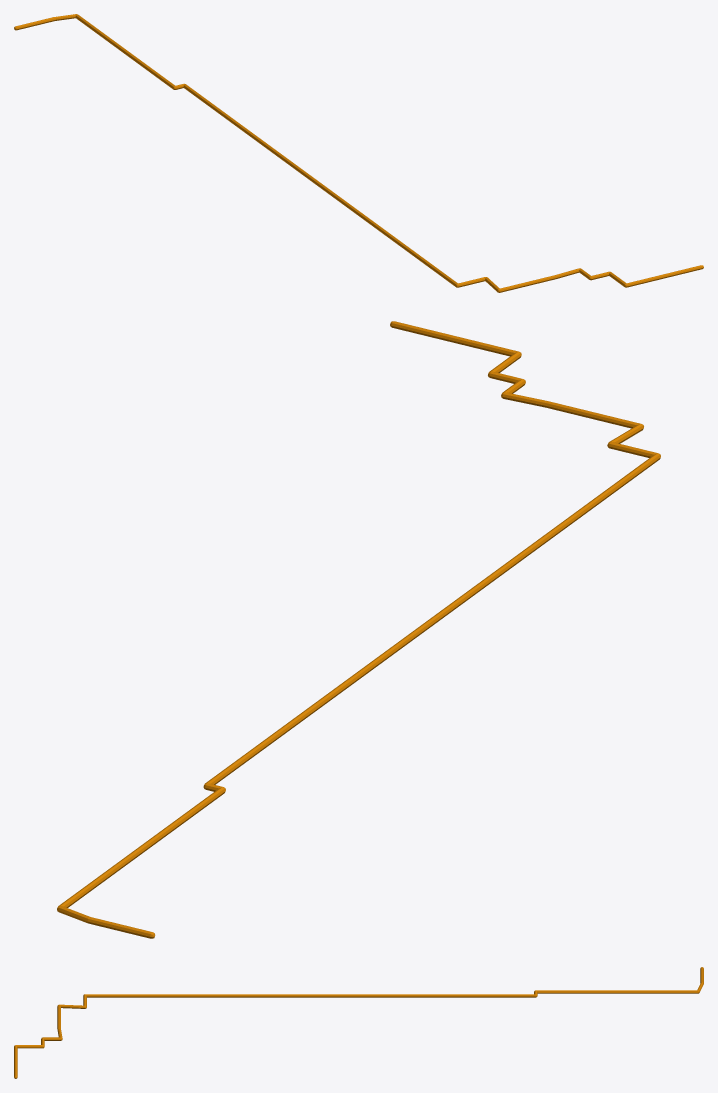
3 views of the same model, one above another, from view 1: azimuth 30°, elevation 25°; view 2: azimuth 150°, elevation 25°; view 3: azimuth 270°, elevation 25° (orthographic). The views are drawn at different scales.
Size of the model in its own units: 1445 by 20 by 3827.
